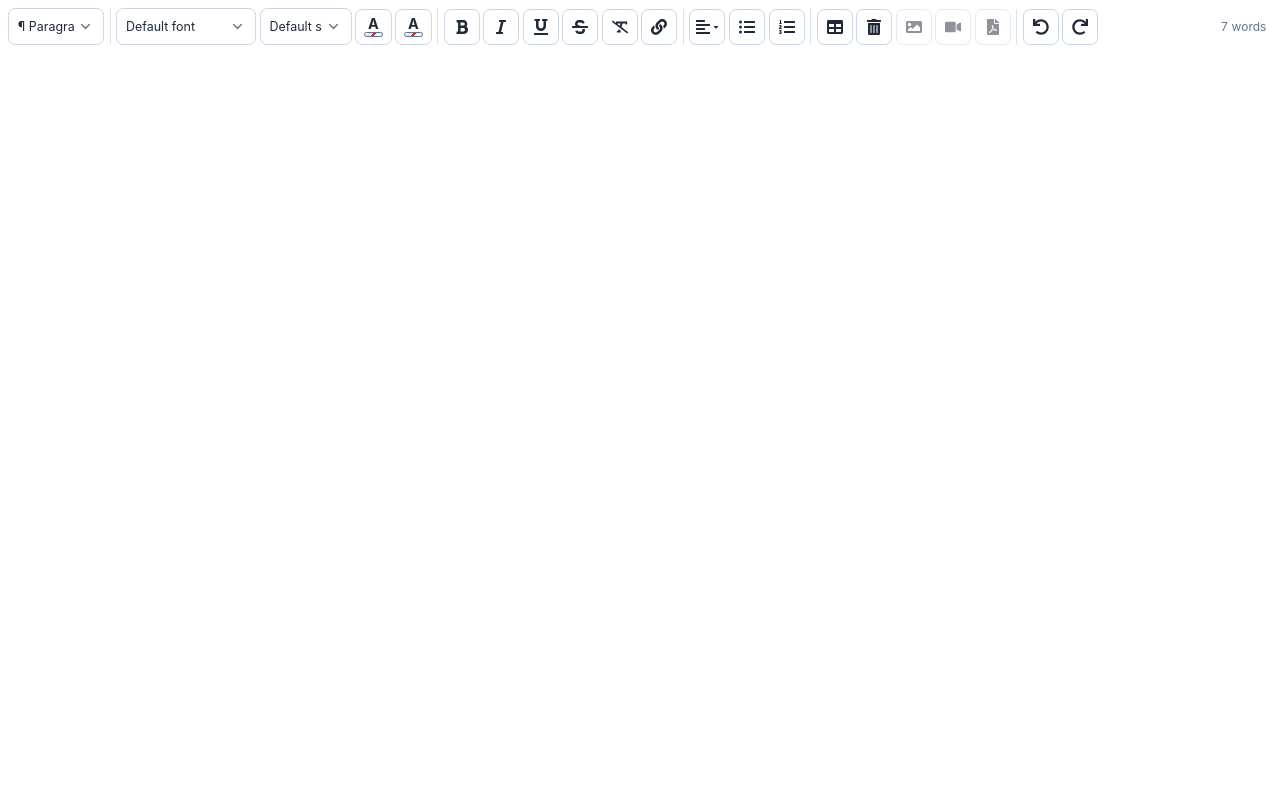
Test case: LitBlogsEditorToolbar › closes nonmodal popups as focus leaves and never leaves link and color open together
Click the button named "Link" at (659,27), box [641,9,677,45]
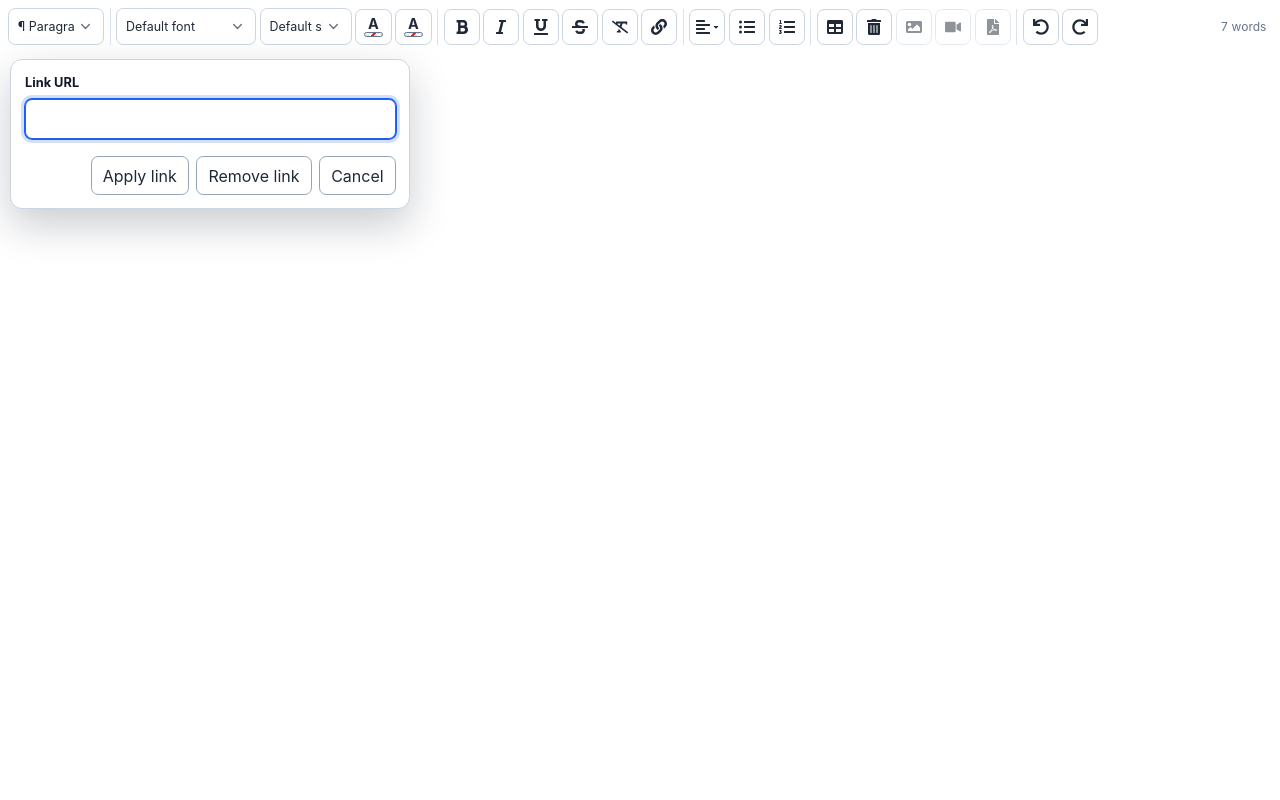
Leave the field labelled "Link URL", box [25,99,396,139]
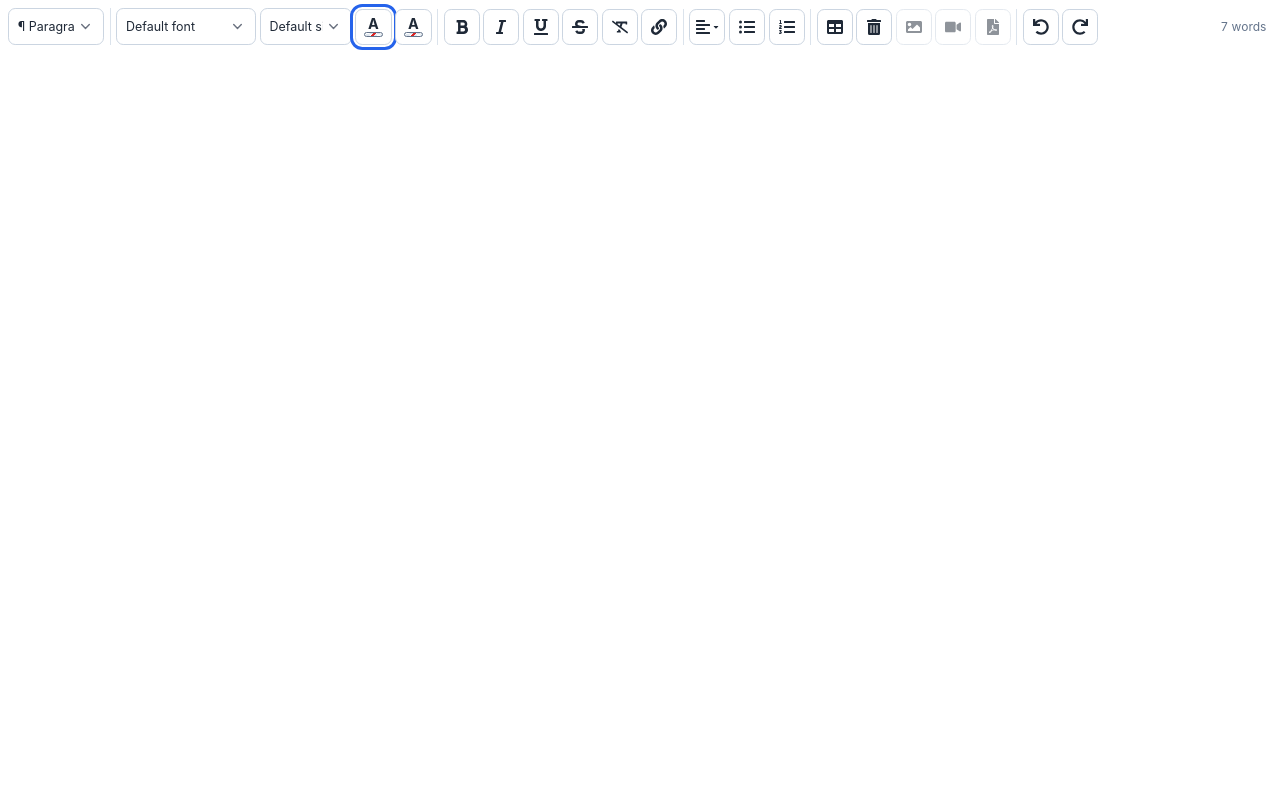
Click the button named "Text color:" at (373,27), box [355,9,392,45]
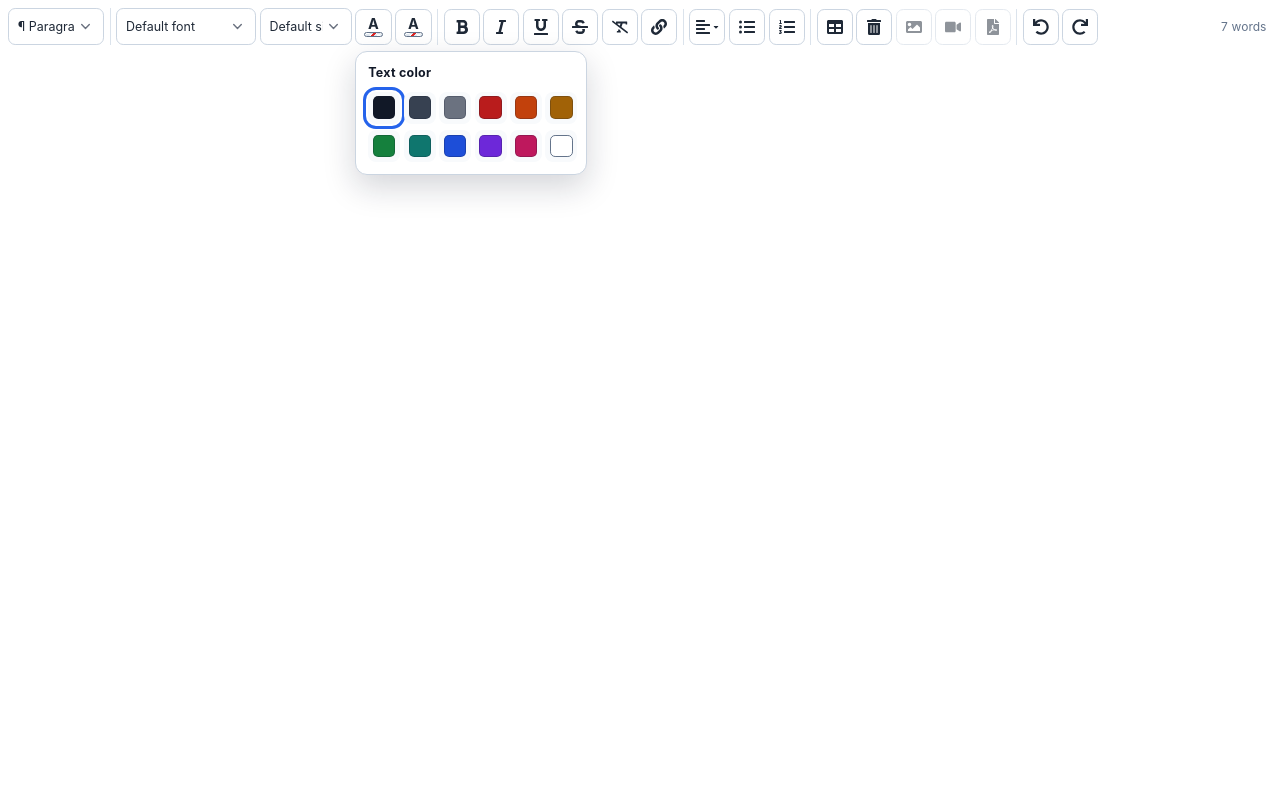
expect the dialog named "Text color palette" is shown: met, box [355,51,587,175]
Leave the button named "Ink #111827", box [368,92,400,124]
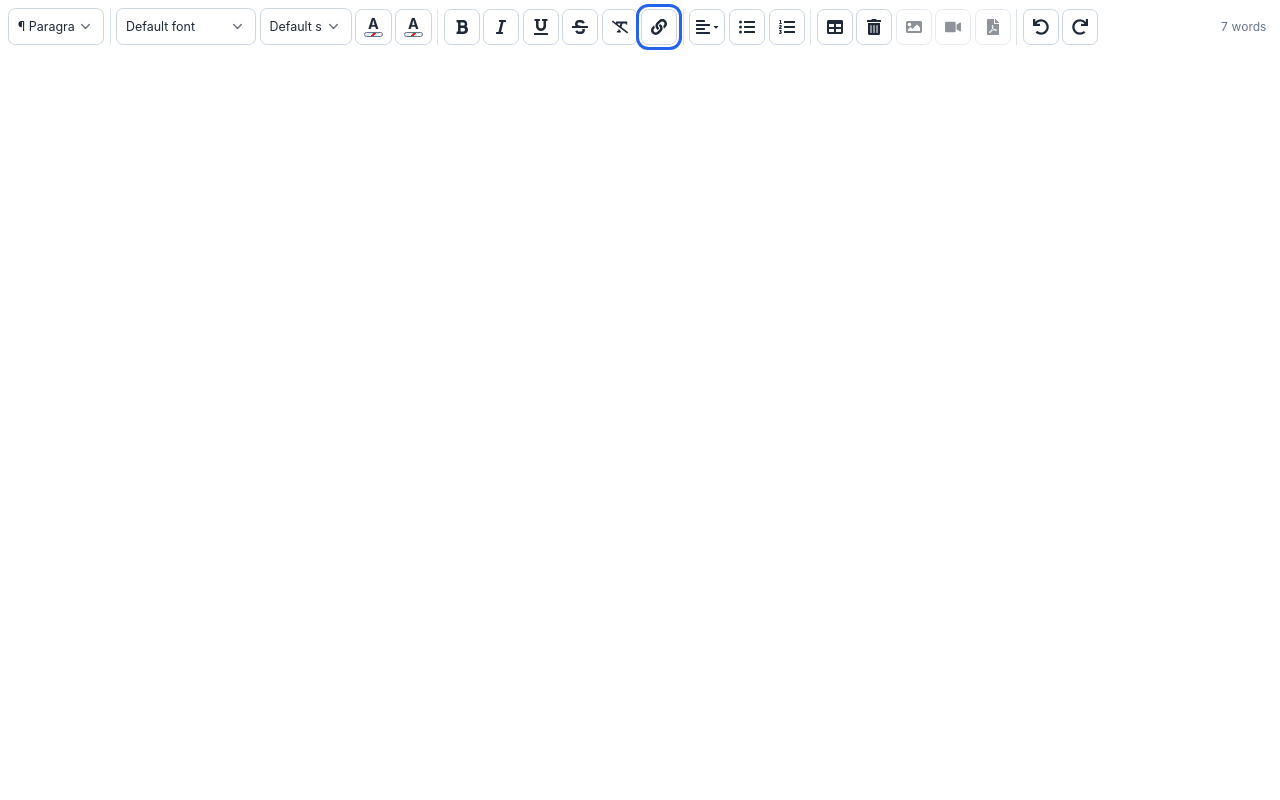
Click the button named "Link" at (659,27), box [641,9,677,45]
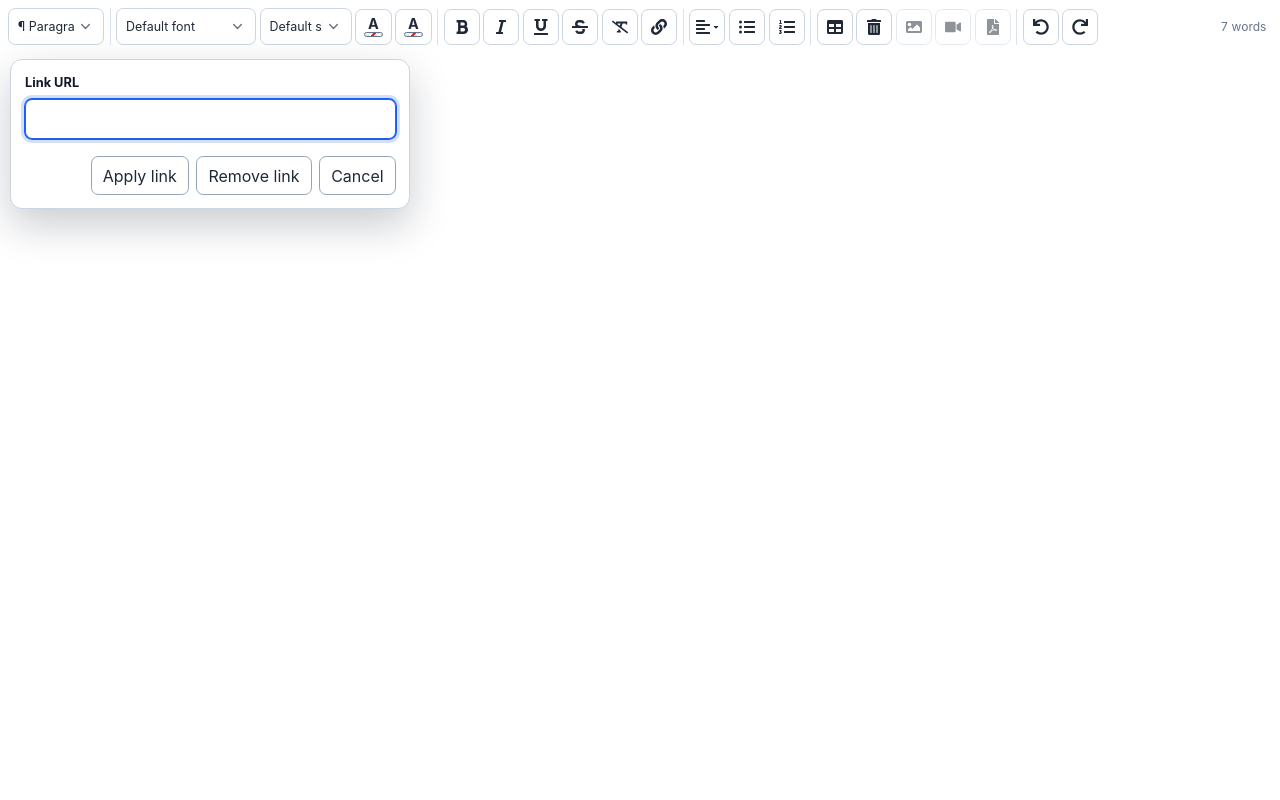
expect the dialog named "Edit link" is shown: met, box [10,59,410,210]
